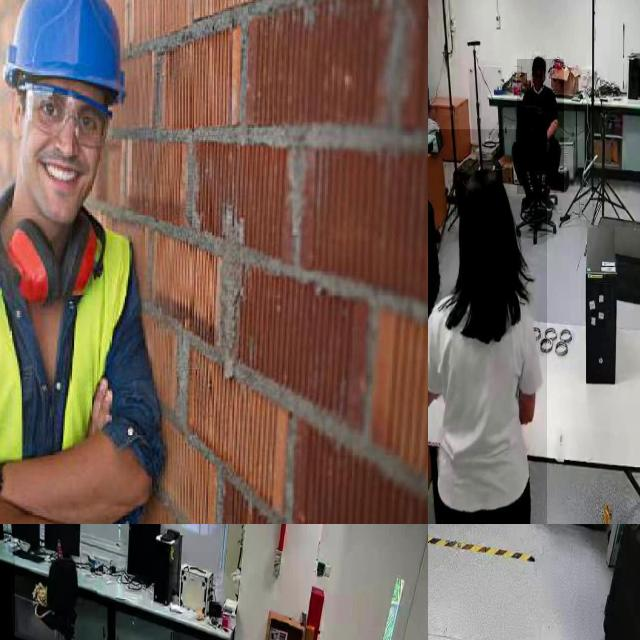Ear-protection: (0, 185, 139, 317)
face_nomask: (532, 69, 544, 90)
glasses: (18, 78, 114, 149)
head_helmet: (0, 0, 141, 113)
head_nohelmet: (458, 166, 510, 219), (532, 55, 546, 69)
person: (0, 0, 175, 524), (428, 129, 547, 524), (517, 59, 565, 194)
vest: (0, 213, 157, 524)
